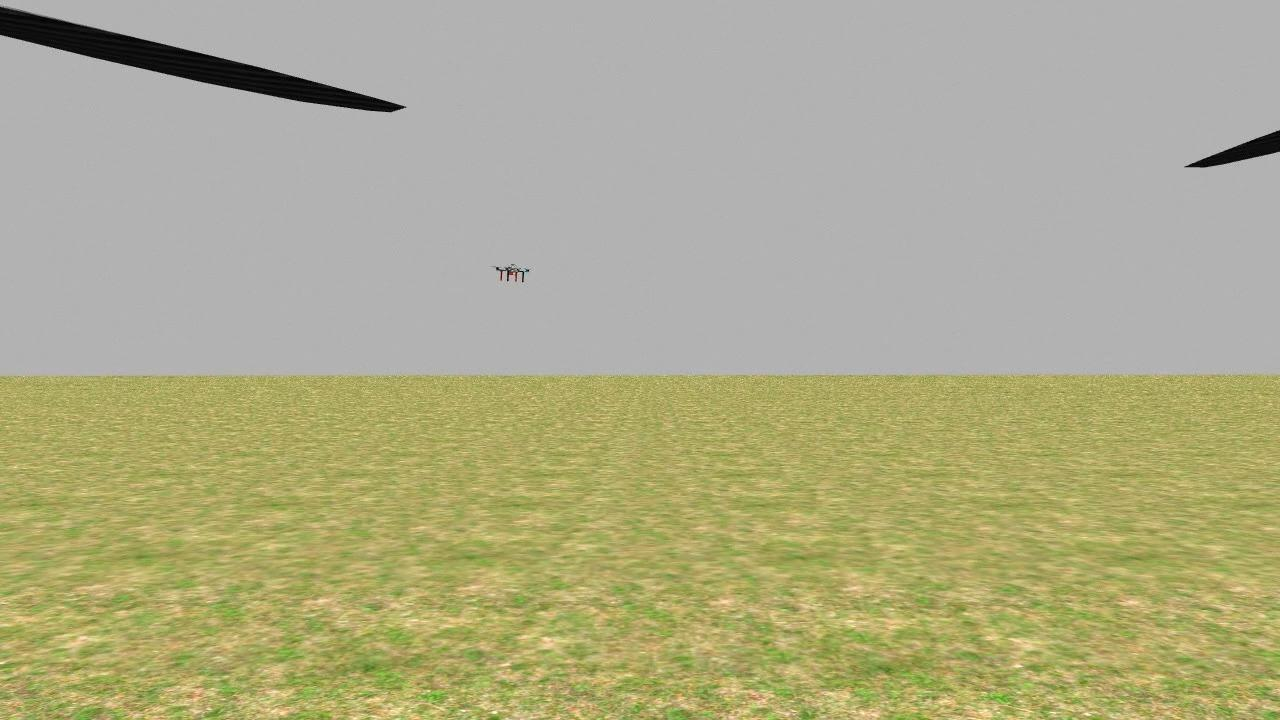UAV: (492, 254, 536, 292)
